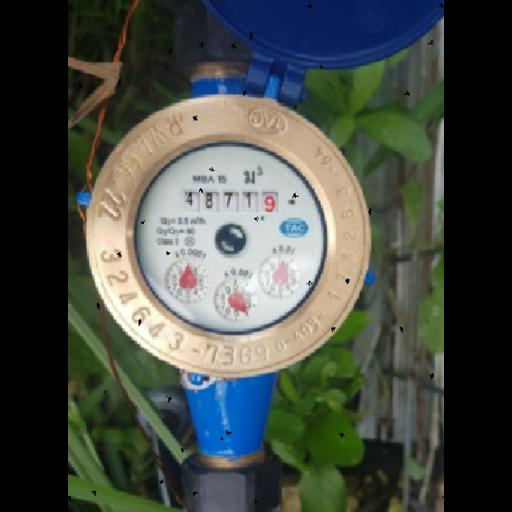1: (245, 193, 258, 212)
4: (186, 191, 199, 212)
7: (224, 190, 238, 212)
8: (204, 192, 218, 211)
9: (264, 193, 277, 213)
border_water_meter_number: (180, 186, 283, 218)
